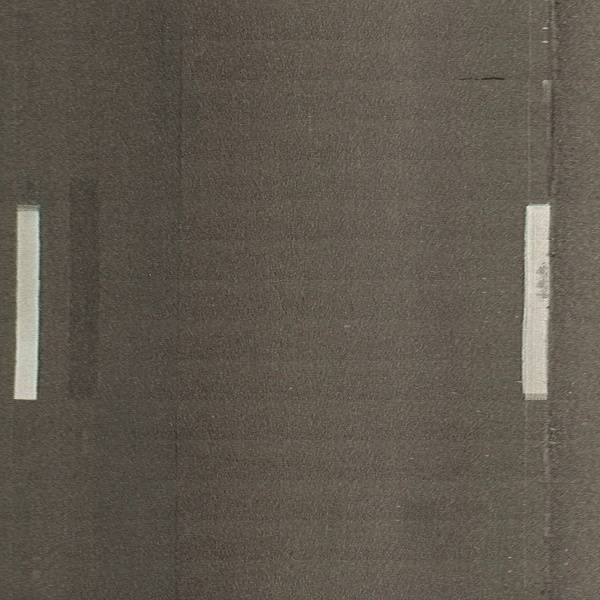road_damage: (453, 73, 512, 86)
